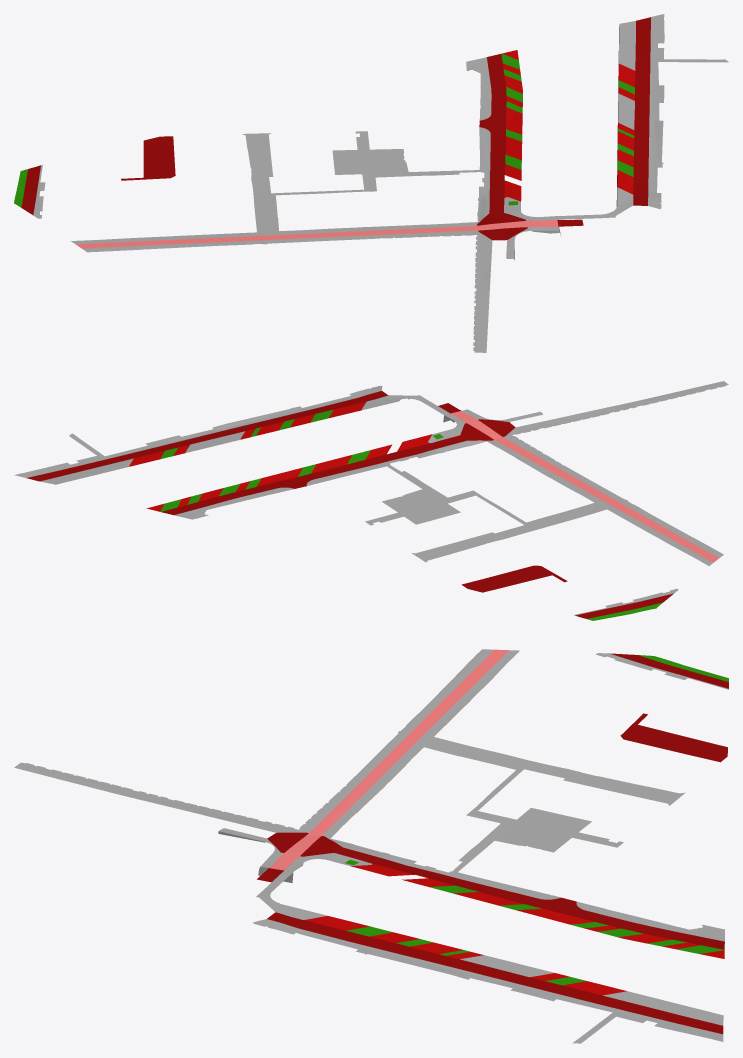
File: tile-67319-51835-16 gebieden.fbx
3 views of the same model, one above another, from view 1: azimuth 30°, elevation 25°; view 2: azimuth 150°, elevation 25°; view 3: azimuth 270°, elevation 25° (orthographic). The views are drawn at different scales.
Parts seen in each view (by area): view 1: Mesh (×5); view 2: Mesh (×5); view 3: Mesh (×5).
Boxes of the visible parts, bbox=[...] form: Mesh (×5): bbox=[14, 14, 728, 352]; Mesh (×5): bbox=[14, 381, 728, 620]; Mesh (×5): bbox=[14, 649, 728, 1043].
Bounding box in the file's own units: 187 × 2.33 × 145.
